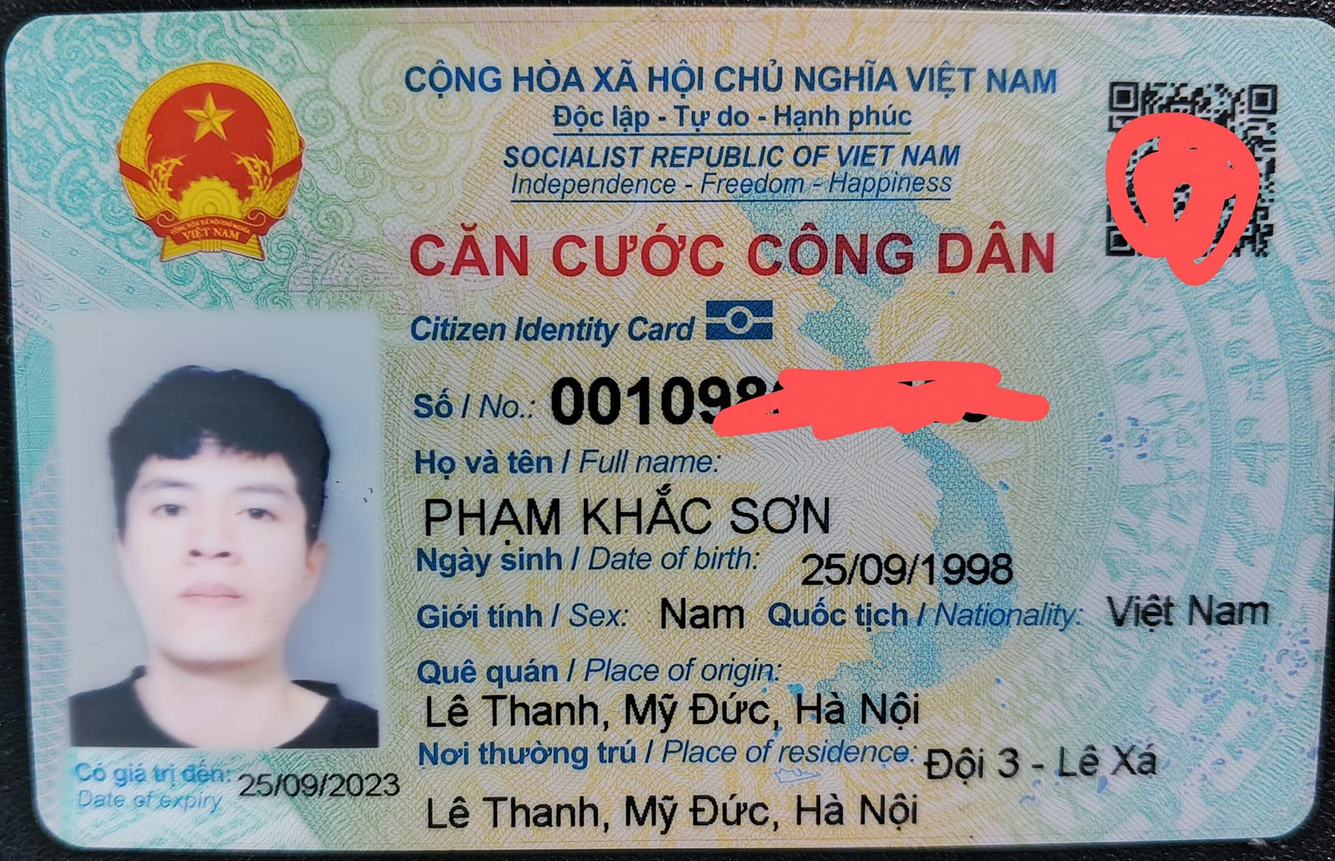bottom_left: (0, 798, 88, 857)
bottom_right: (1265, 782, 1330, 852)
image_person: (56, 317, 382, 746)
top_left: (10, 6, 72, 67)
top_right: (1291, 9, 1335, 61)
